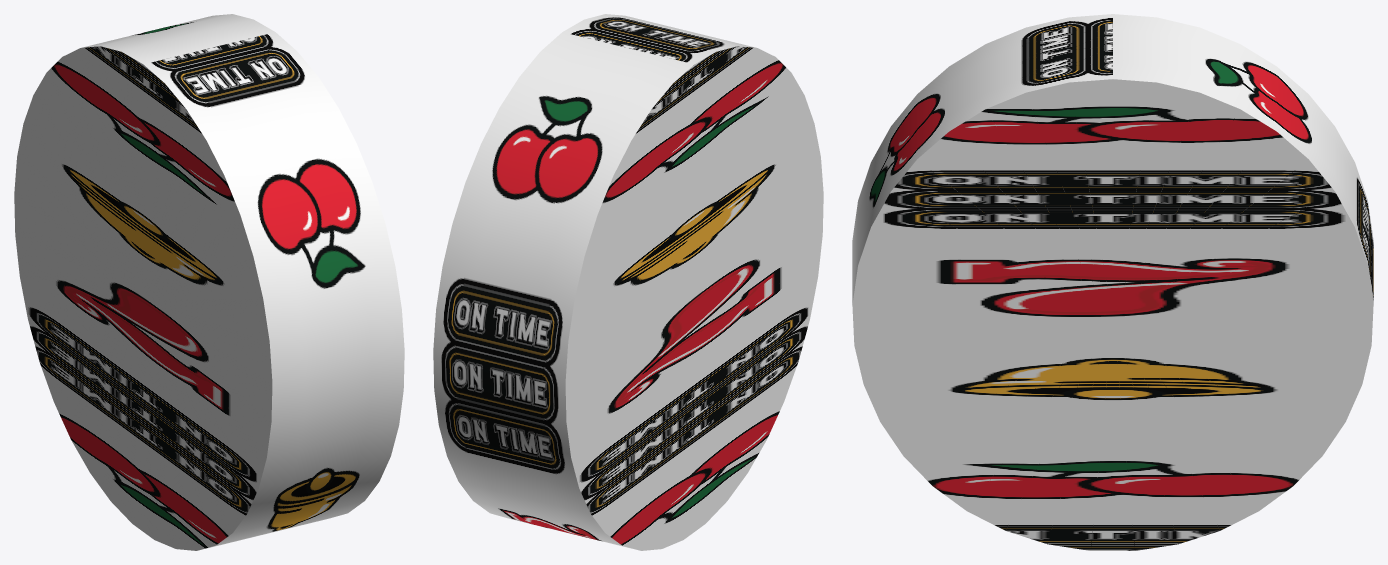
3 renders of one model, left to right at view 1: azimuth 30°, elevation 25°; view 2: azimuth 150°, elevation 25°; view 3: azimuth 270°, elevation 25°, orthographic.
Parts seen in each view (by area): view 1: 돌1; view 2: 돌1; view 3: 돌1.
Part boxes in pixels (<box>): 돌1: <box>14,14,404,550</box>; 돌1: <box>433,14,823,550</box>; 돌1: <box>852,14,1373,550</box>.
Size of the model in its own units: 0.3661 by 1.24 by 1.24.
Materials: 1 (1 with a texture image).
